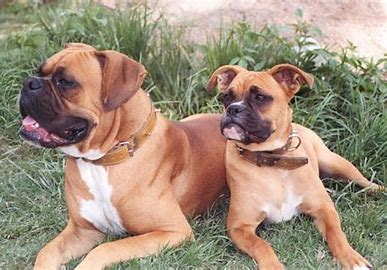dog: (209, 59, 382, 268), (18, 43, 185, 252)
